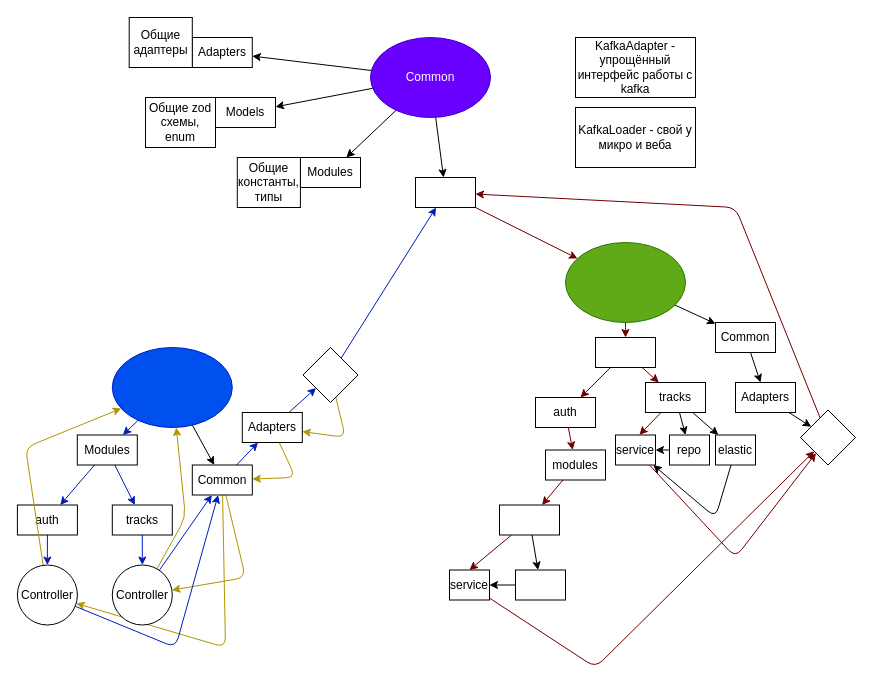
The diagram is 874 pixels wide and 693 high, and some of its shapes have lost their labels. Each missing label, with the box of its shape:
Kafka micro: (800, 409, 856, 465)
Kafka web: (302, 346, 358, 402)
Microservices: (564, 242, 686, 322)
registration: (498, 504, 560, 535)
repository: (514, 569, 566, 600)
Services: (594, 336, 656, 368)
Topics: (414, 176, 476, 208)
Web-Server: (111, 346, 232, 428)
